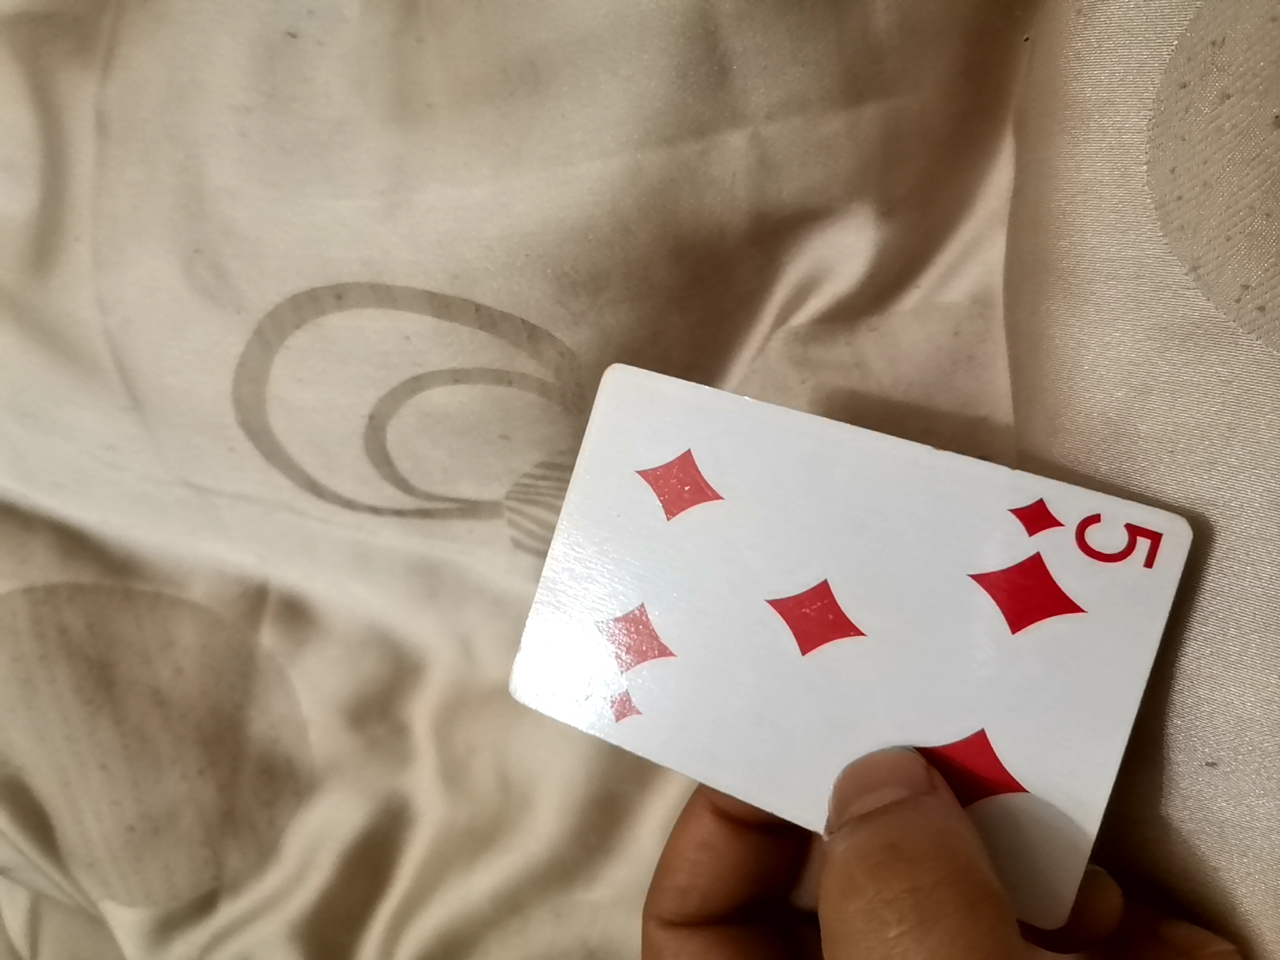fk 5: (502, 355, 1223, 850)
